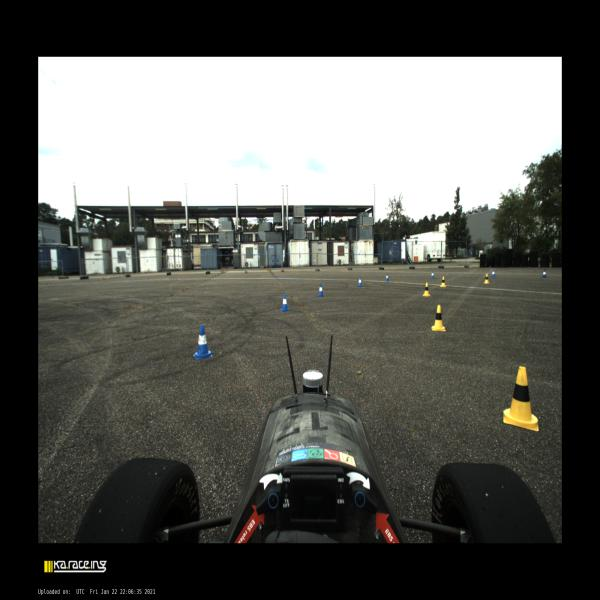blue_cone: (193, 325, 212, 360), (281, 294, 289, 312), (317, 283, 324, 297), (541, 269, 547, 278), (358, 276, 362, 286), (386, 273, 390, 282), (430, 271, 434, 279), (492, 270, 496, 277)
yellow_cone: (503, 366, 539, 432), (431, 305, 446, 331), (422, 282, 431, 296), (440, 277, 446, 287), (484, 274, 489, 284)
